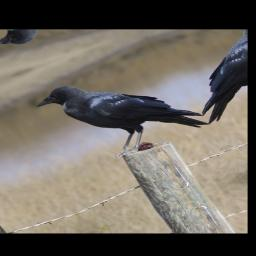Crow: (27, 51, 211, 173)
